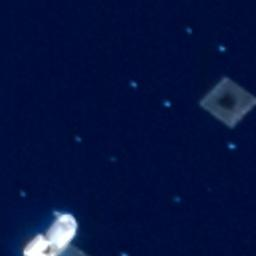square_cover: (194, 73, 256, 134)
